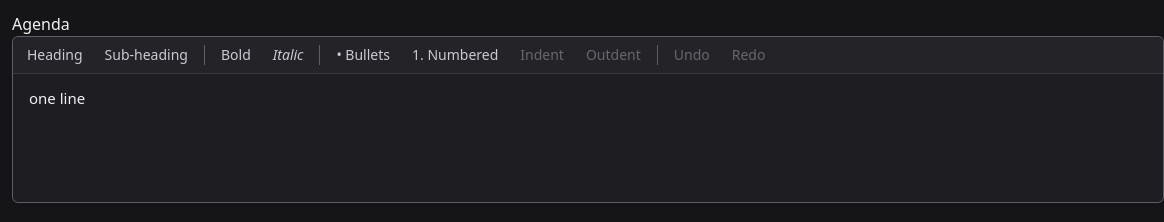
it: the buttons › offer Indent and Outdent only inside a list, and Undo only after a change
Check: the field named "Agenda" is shown, box [29, 88, 85, 108]
Check: the button "Indent" is disabled, box [510, 41, 574, 69]
Step 1. Click the button "• Bullets" → (363, 55), box [326, 41, 400, 69]
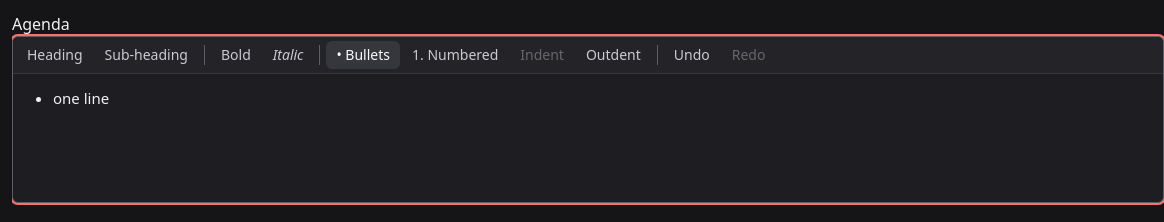
Check: the button "Undo" is enabled, box [664, 41, 720, 69]
Check: the button "Outdent" is enabled, box [576, 41, 651, 69]
